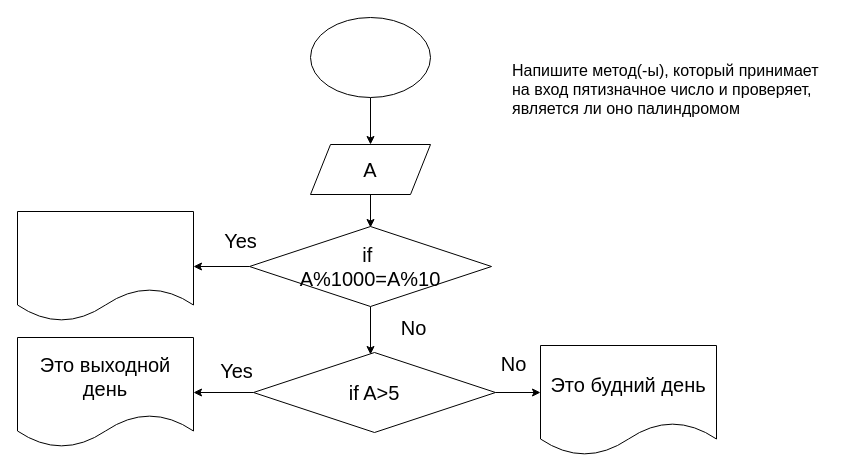
Image size: 848x473. Some labels were removed from this diagram. The centre of each missing label's shape, as x and y in pixels:
Start: the point at 370,57
Это не день недели: the point at 105,266
